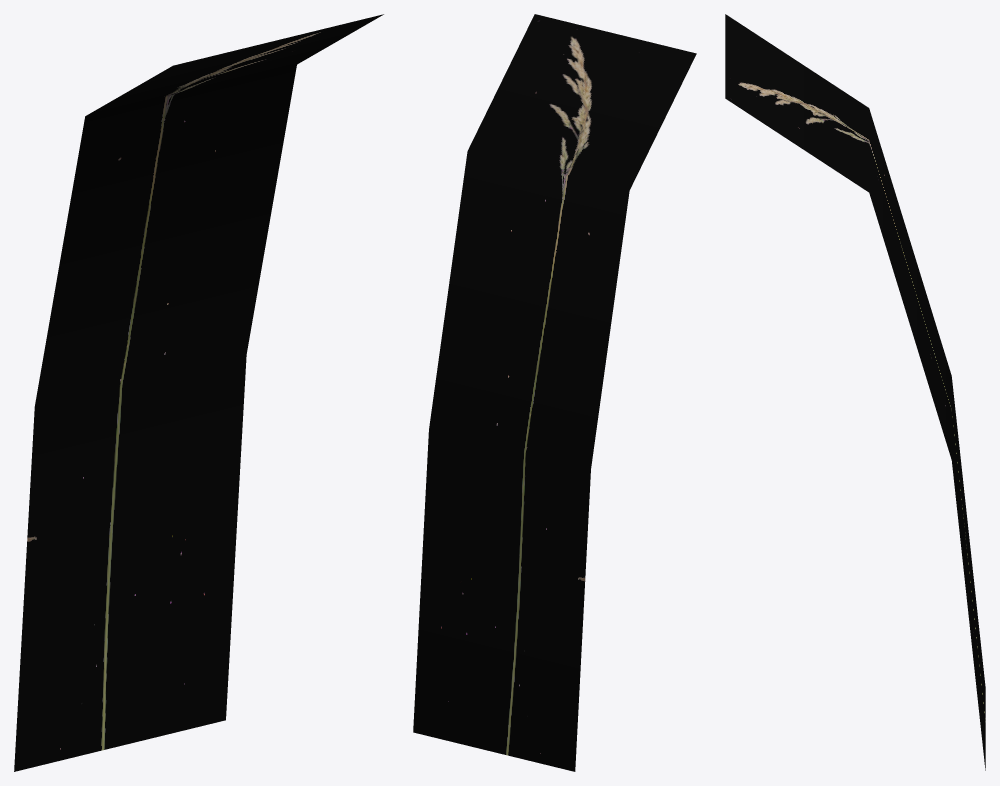
The model's file is grass_2.fbx.
3 renders of one model, left to right at view 1: azimuth 30°, elevation 25°; view 2: azimuth 150°, elevation 25°; view 3: azimuth 270°, elevation 25°, orthographic. The views are drawn at different scales.
Visible parts, largest first — view 1: Plane007; view 2: Plane007; view 3: Plane007.
Part boxes in pixels (box(x1,y1,x2,y2)): Plane007: box(14, 14, 383, 771); Plane007: box(413, 14, 696, 771); Plane007: box(725, 14, 985, 770).
Size of the model in its own units: 155 by 201 by 575.
Materials: 1 (1 with a texture image).
